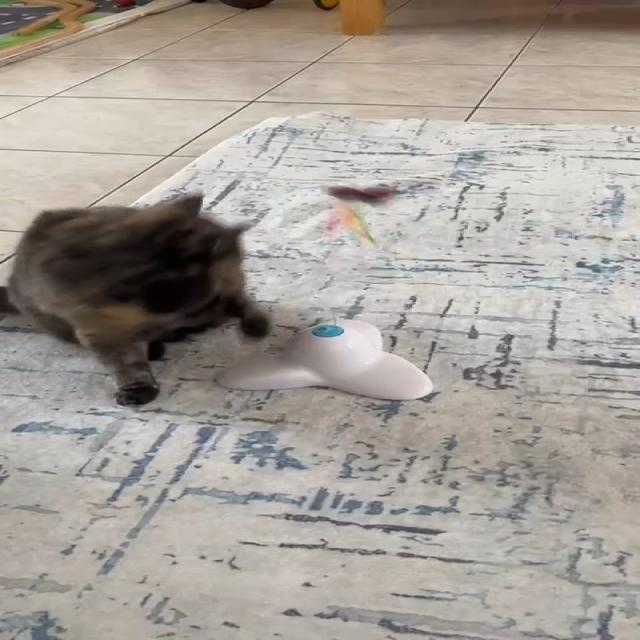authorized: (3, 190, 269, 406)
